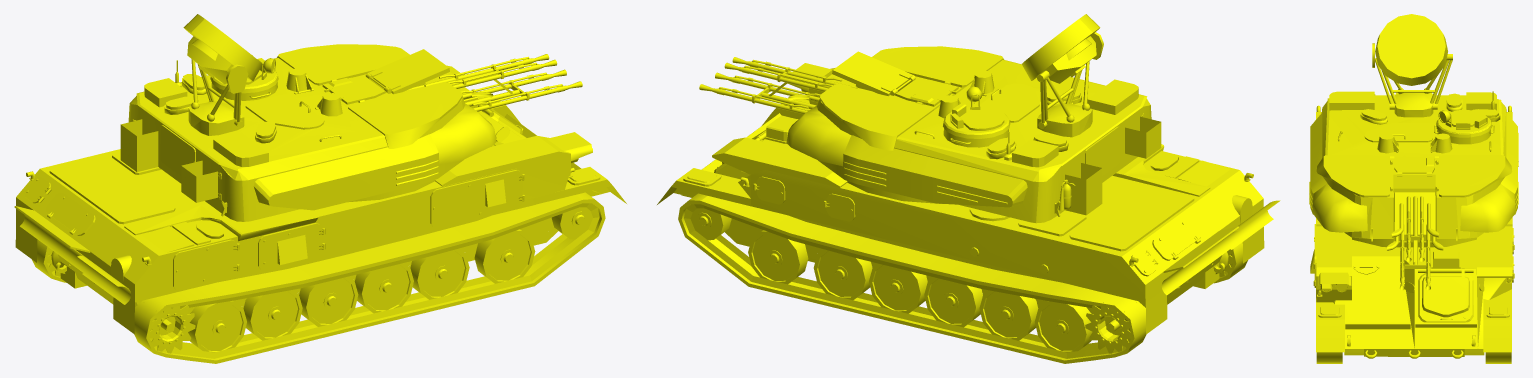
File: shilka.glb
3 renders of one model, left to right at view 1: azimuth 30°, elevation 25°; view 2: azimuth 150°, elevation 25°; view 3: azimuth 270°, elevation 25°, orthographic. The views are drawn at different scales.
Visible parts, largest first — view 1: hull, turret, track, antenna, hatch2, wheel13, wheel3, wheel11, wheel5, wheel7, wheel9, wheel15 (+12 smaller); view 2: hull, turret, track2, antenna, wheel14, wheel4, wheel12, wheel6, wheel8, wheel10, wheel16, hatch2 (+13 smaller); view 3: turret, hull, antenna, hatch3, mount, hatch2, hatch, hull details, track, track2, weapon, weapon3 (+2 smaller).
Part boxes in pixels (x1,y1,x2,y2): hull: (14, 65, 626, 334); turret: (120, 44, 496, 221); track: (134, 192, 605, 363); antenna: (183, 14, 262, 135); hatch2: (245, 94, 324, 129); wheel13: (198, 304, 243, 351); wheel3: (486, 234, 531, 281); wheel11: (254, 291, 299, 338); wheel5: (421, 250, 466, 297); wheel7: (365, 264, 410, 311); wheel9: (309, 278, 354, 324); wheel15: (143, 301, 195, 353); hull: (657, 63, 1280, 333); turret: (786, 46, 1161, 223); track2: (678, 193, 1146, 363); antenna: (1021, 14, 1103, 137); wheel14: (1038, 304, 1083, 351); wheel4: (751, 234, 796, 281); wheel12: (983, 291, 1027, 338); wheel6: (817, 251, 861, 297); wheel8: (872, 265, 917, 311); wheel10: (927, 278, 972, 324); wheel16: (1085, 302, 1137, 353); hatch2: (980, 83, 1039, 122); turret: (1309, 91, 1518, 247); hull: (1310, 105, 1514, 356); antenna: (1372, 14, 1452, 117); hatch3: (1418, 268, 1473, 322); mount: (1386, 196, 1443, 268); hatch2: (1364, 123, 1432, 142); hatch: (1448, 109, 1483, 126); hull details: (1317, 278, 1511, 358); track: (1316, 352, 1342, 363); track2: (1485, 352, 1511, 363); weapon: (1406, 196, 1411, 261); weapon3: (1399, 224, 1404, 290).
Size of the model in its own units: 7.04 by 3.78 by 2.98.
